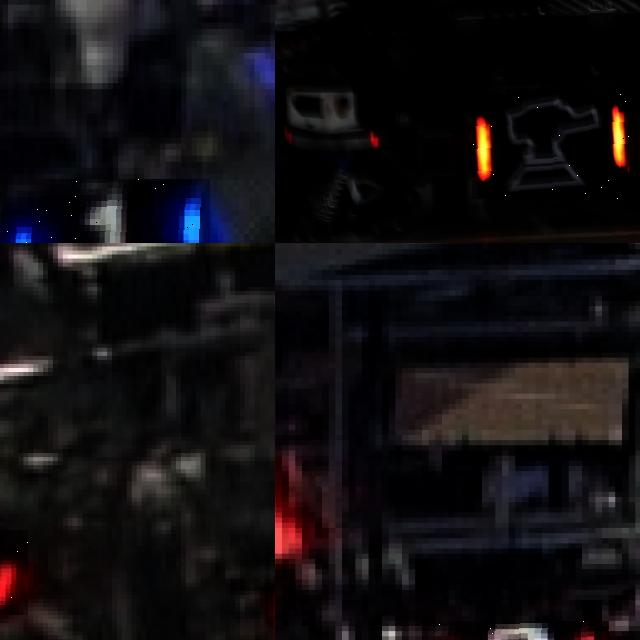B1: (0, 179, 210, 243)
R2: (435, 621, 608, 640), (0, 530, 28, 615)
Rs: (472, 94, 632, 200)
